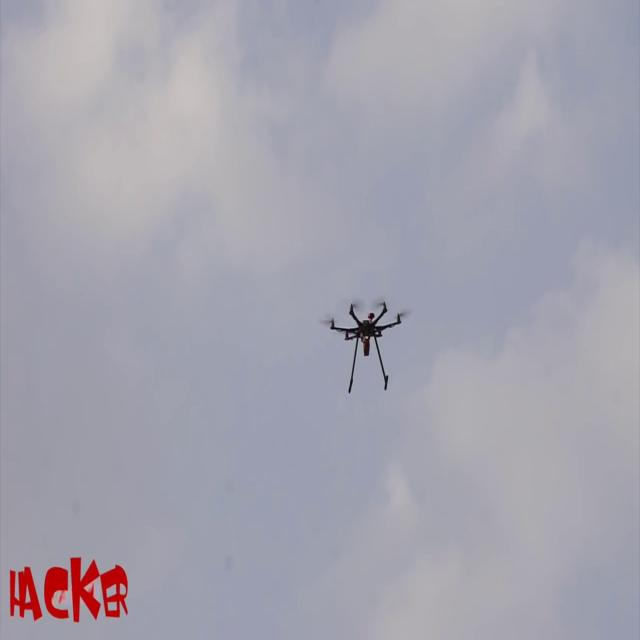drone: (325, 294, 412, 404)
